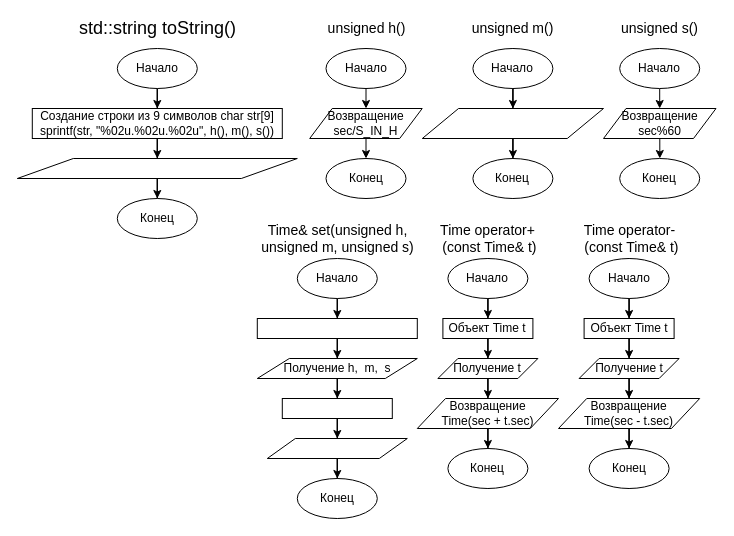
The diagram is 734 pixels wide and 536 high, and some of its shapes have lost their labels. The shapes that lost their labels are listed below. From the top down, each one's centre as x and y in pixels, then its label:
At (512,123): "Возвращение sec%S_IN_H)/S_IN_M".
At (156,168): "Возвращение объекта std::string(str)".
At (336,328): "Натуральные числа h, m, s".
At (336,408): "*this = Time(h, m, s)".
At (336,448): "Возвращение *this".
